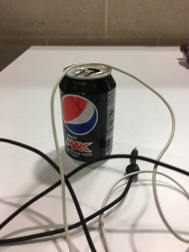can_black: (41, 55, 124, 178)
